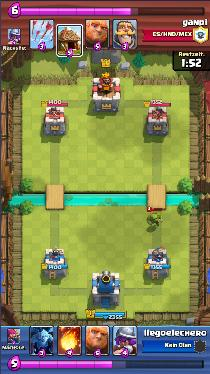ally_goblin_cage: (146, 213, 163, 227)
